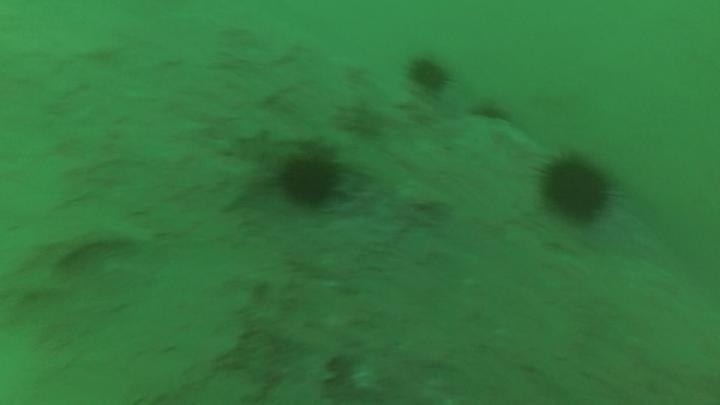echinus: (534, 149, 618, 226), (275, 148, 345, 211), (405, 53, 454, 95), (467, 96, 515, 129)
